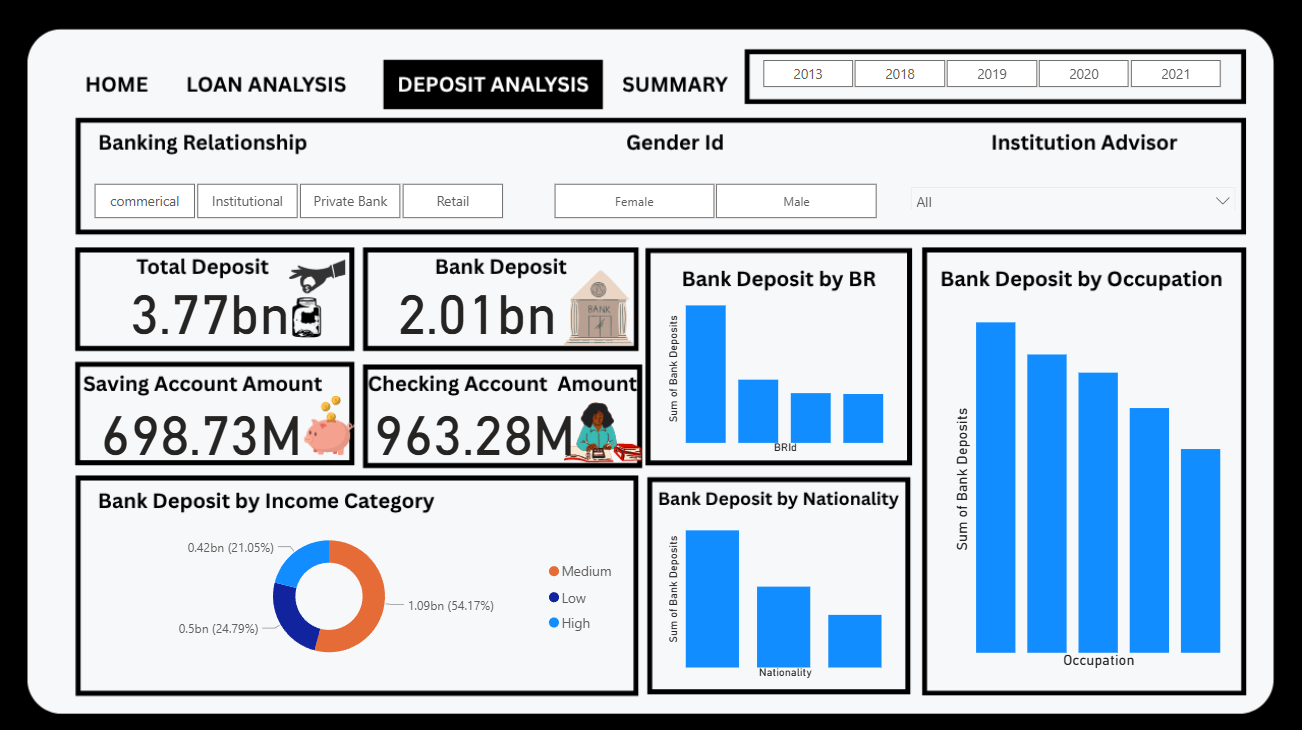

The dashboard page shown, as its layout file describes it:
{"tool":"powerbi","page":{"name":"Deposite analysis","canvas":[1280,720],"ordinal":2},"visuals":[{"type":"slicer","fields":{"Values":["banking_case customer.Year of joining"]},"box":[723.9,52.8,499.4,38],"z":0},{"type":"actionButton","box":[58.9,61.4,99.4,40.5],"z":1000},{"type":"card","fields":{"Values":["banking_case customer.Total deposite"]},"box":[67.5,276.1,279.8,74.8],"z":2000},{"type":"card","fields":{"Values":["Sum(banking_case customer.Bank Deposits)"]},"box":[311.5,275.8,315.6,75.5],"z":3000},{"type":"card","fields":{"Values":["Sum(banking_case customer.Saving Accounts)"]},"box":[58.9,395.1,279.8,74.8],"z":4000},{"type":"card","fields":{"Values":["Sum(banking_case customer.Checking Accounts)"]},"box":[293.7,395.2,347.2,74.1],"z":5000},{"type":"donutChart","fields":{"Category":["banking_case customer.Income Category"],"Y":["Sum(banking_case customer.Bank Deposits)"]},"box":[104.3,511.7,511.7,149.7],"z":6000},{"type":"clusteredColumnChart","fields":{"Category":["banking_case customer.BRId"],"Y":["Sum(banking_case customer.Bank Deposits)"]},"box":[651.8,275.8,223.7,175.6],"z":7000},{"type":"clusteredColumnChart","fields":{"Category":["banking_case customer.Nationality"],"Y":["Sum(banking_case customer.Bank Deposits)"]},"box":[651.8,488.5,223.7,183.9],"z":8000},{"type":"clusteredColumnChart","fields":{"Category":["banking_case customer.Occupation"],"Y":["Sum(banking_case customer.Bank Deposits)"]},"box":[933.1,286.8,273.1,374.6],"z":9000},{"type":"slicer","fields":{"Values":["banking_case customer.BRId"]},"box":[67.2,174.3,451.5,48],"z":10000},{"type":"slicer","fields":{"Values":["banking_case customer.GenderId"]},"box":[518.7,174.3,366.4,48],"z":11000},{"type":"slicer","fields":{"Values":["banking_case customer.IAId"]},"box":[885.1,174.3,338.9,32.9],"z":12000},{"type":"actionButton","box":[170.2,63.1,177,39.8],"z":12001},{"type":"actionButton","box":[602.4,61.7,122.1,39.8],"z":12002}]}

Visuals, with their boxes in screenshot pixels (x1, y1, x2, y2), scaled from the page's 1280x720 canvas onto the 1302x730 screenshot:
slicer - banking_case customer.Year of joining: box(736, 54, 1244, 92)
actionButton: box(60, 62, 161, 103)
card - banking_case customer.Total deposite: box(69, 280, 353, 356)
card - Sum(banking_case customer.Bank Deposits): box(317, 280, 638, 356)
card - Sum(banking_case customer.Saving Accounts): box(60, 401, 345, 476)
card - Sum(banking_case customer.Checking Accounts): box(299, 401, 652, 476)
donutChart - banking_case customer.Income Category x Sum(banking_case customer.Bank Deposits): box(106, 519, 627, 671)
clusteredColumnChart - banking_case customer.BRId x Sum(banking_case customer.Bank Deposits): box(663, 280, 891, 458)
clusteredColumnChart - banking_case customer.Nationality x Sum(banking_case customer.Bank Deposits): box(663, 495, 891, 682)
clusteredColumnChart - banking_case customer.Occupation x Sum(banking_case customer.Bank Deposits): box(949, 291, 1227, 671)
slicer - banking_case customer.BRId: box(68, 177, 528, 225)
slicer - banking_case customer.GenderId: box(528, 177, 900, 225)
slicer - banking_case customer.IAId: box(900, 177, 1245, 210)
actionButton: box(173, 64, 353, 104)
actionButton: box(613, 63, 737, 103)
